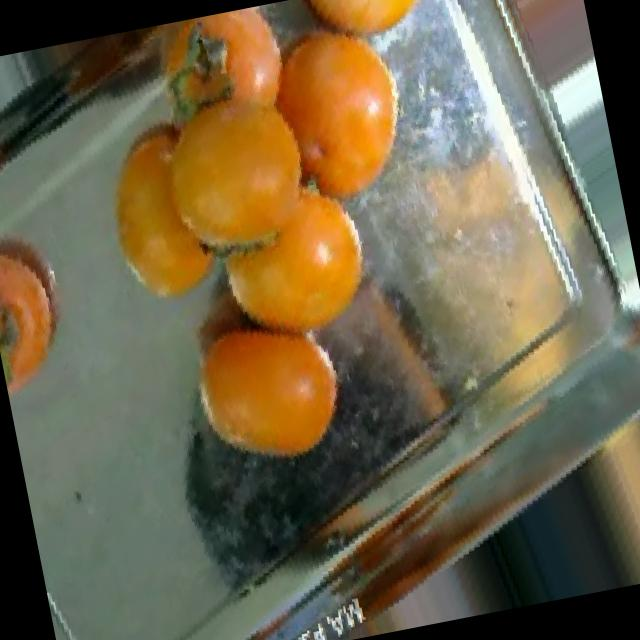Fruit: (157, 262, 385, 503), (0, 198, 101, 415), (478, 0, 602, 114), (288, 0, 458, 66)
